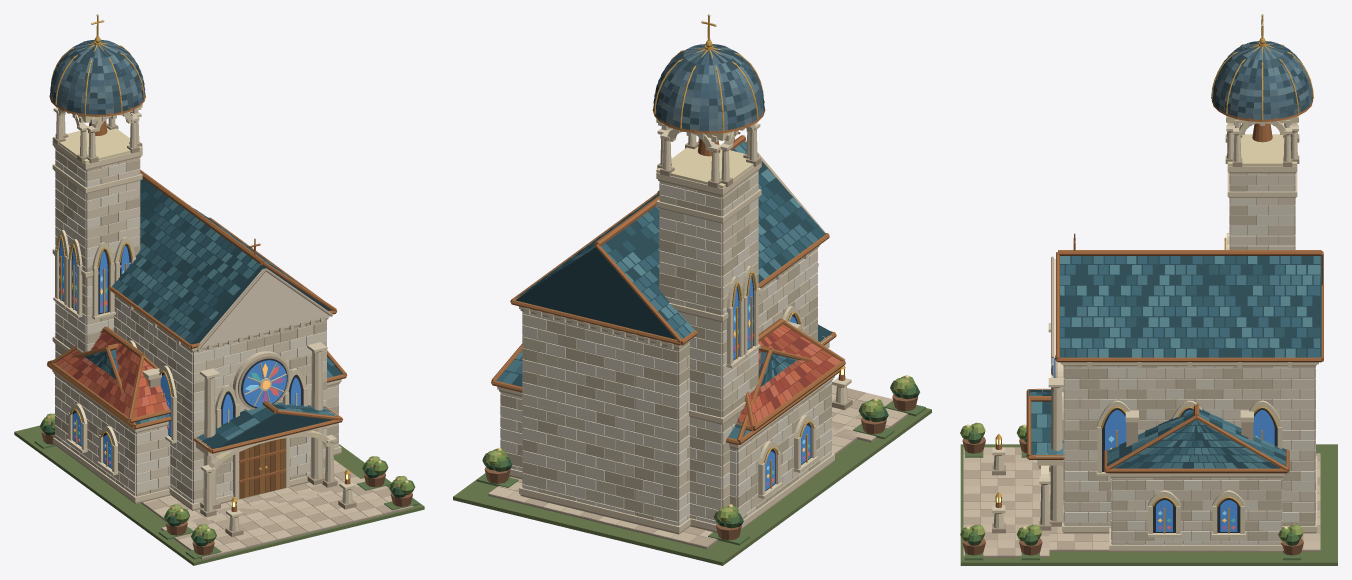
The model's file is chapel-nivel-5.glb.
3 views of the same model, side by side, from view 1: azimuth 30°, elevation 25°; view 2: azimuth 150°, elevation 25°; view 3: azimuth 270°, elevation 25° (orthographic). The views are drawn at different scales.
Parts seen in each view (by area): view 1: Capela 05 #e6d7ba, Capela 05 #e8dcc5, Capela 05 #eae1ce, Capela 05 #294952, Capela 05 #ded1b9, Capela 05 #cec1a8, Capela 05 #a76e42, Capela 05 #6c7d4e, Capela 05 #c1af99, Capela 05 #d3c3a9, Capela 05 #305762, Capela 05 #406c9f (+27 smaller); view 2: Capela 05 #e8dcc5, Capela 05 #eae1ce, Capela 05 #ded1b9, Capela 05 #cec1a8, Capela 05 #e6d7ba, Capela 05 #294952, Capela 05 #6c7d4e, Capela 05 #a76e42, Capela 05 #b3a390, Capela 05 #eadbb2, Capela 05 #637f89, Capela 05 #b4a38a (+23 smaller); view 3: Capela 05 #294952, Capela 05 #e6d7ba, Capela 05 #e8dcc5, Capela 05 #eae1ce, Capela 05 #ded1b9, Capela 05 #cec1a8, Capela 05 #a76e42, Capela 05 #54818b, Capela 05 #6c7d4e, Capela 05 #46717c, Capela 05 #3b6472, Capela 05 #305762 (+20 smaller).
Part boxes in pixels (bbox=[...]): Capela 05 #e6d7ba: bbox=[52, 107, 355, 531]; Capela 05 #e8dcc5: bbox=[55, 159, 338, 503]; Capela 05 #eae1ce: bbox=[55, 154, 338, 496]; Capela 05 #294952: bbox=[84, 178, 342, 448]; Capela 05 #ded1b9: bbox=[55, 108, 338, 490]; Capela 05 #cec1a8: bbox=[55, 150, 338, 499]; Capela 05 #a76e42: bbox=[47, 75, 350, 511]; Capela 05 #6c7d4e: bbox=[14, 425, 424, 565]; Capela 05 #c1af99: bbox=[144, 268, 397, 557]; Capela 05 #d3c3a9: bbox=[142, 362, 413, 554]; Capela 05 #305762: bbox=[84, 190, 336, 433]; Capela 05 #406c9f: bbox=[60, 240, 300, 467]; Capela 05 #e8dcc5: bbox=[501, 170, 831, 519]; Capela 05 #eae1ce: bbox=[500, 181, 831, 525]; Capela 05 #ded1b9: bbox=[500, 123, 819, 521]; Capela 05 #cec1a8: bbox=[500, 179, 831, 520]; Capela 05 #e6d7ba: bbox=[497, 123, 851, 532]; Capela 05 #294952: bbox=[502, 141, 832, 435]; Capela 05 #6c7d4e: bbox=[453, 408, 931, 565]; Capela 05 #a76e42: bbox=[491, 84, 845, 445]; Capela 05 #b3a390: bbox=[501, 183, 737, 525]; Capela 05 #eadbb2: bbox=[592, 14, 813, 464]; Capela 05 #637f89: bbox=[658, 44, 763, 131]; Capela 05 #b4a38a: bbox=[499, 142, 852, 534]; Capela 05 #294952: bbox=[1029, 256, 1321, 468]; Capela 05 #e6d7ba: bbox=[992, 121, 1317, 550]; Capela 05 #e8dcc5: bbox=[1054, 173, 1315, 544]; Capela 05 #eae1ce: bbox=[1063, 173, 1315, 544]; Capela 05 #ded1b9: bbox=[1060, 116, 1318, 544]; Capela 05 #cec1a8: bbox=[1063, 174, 1315, 540]; Capela 05 #a76e42: bbox=[995, 77, 1323, 507]; Capela 05 #54818b: bbox=[1029, 256, 1320, 468]; Capela 05 #6c7d4e: bbox=[960, 444, 1337, 565]; Capela 05 #46717c: bbox=[1031, 256, 1320, 468]; Capela 05 #3b6472: bbox=[1037, 256, 1320, 468]; Capela 05 #305762: bbox=[1031, 256, 1320, 468].
Bounding box in the file's own units: 8.75 × 15.75 × 11.78.
